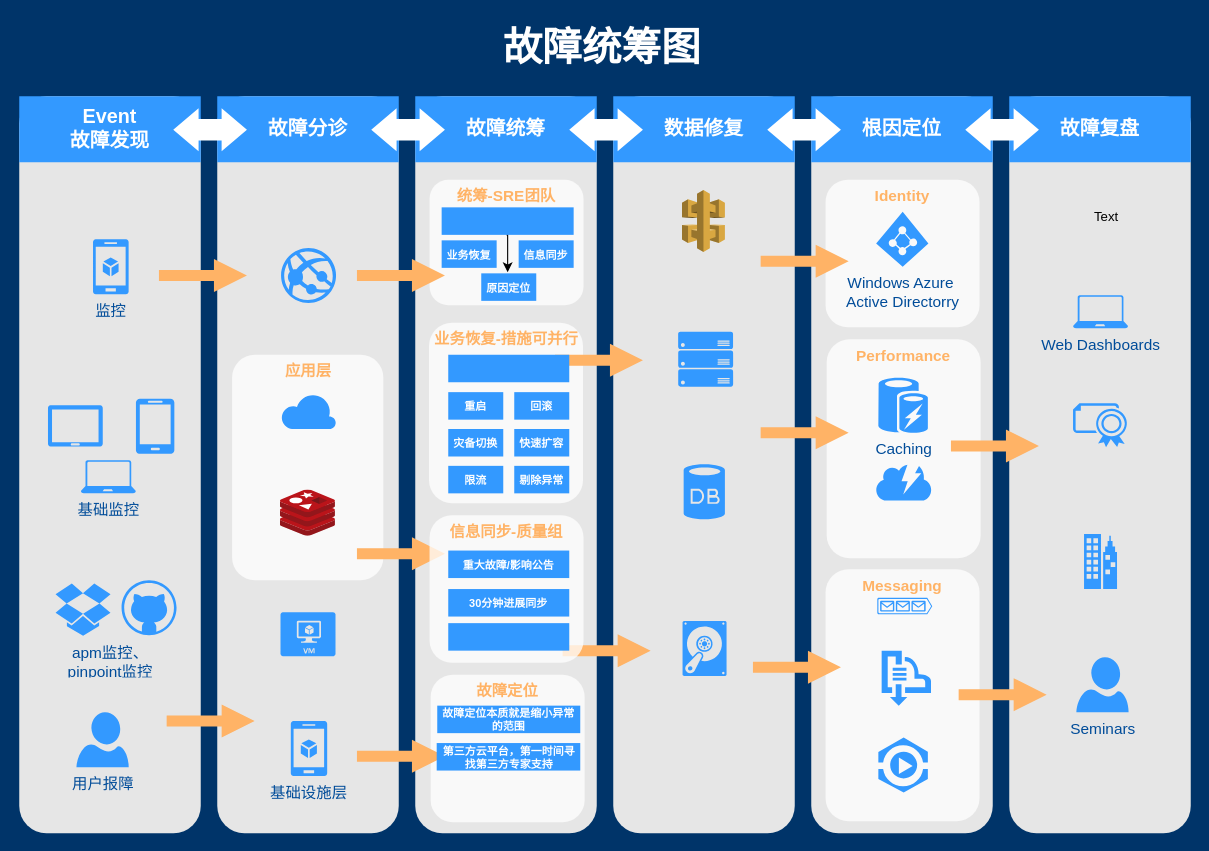
The diagram is 1209 pixels wide and 851 high, and some of its shapes have lost their labels. The centre of each missing label's shape, as x and y in pixels:
"Certificates" belongs at point (1100, 425).
"Content Delivery Network" belongs at point (903, 482).
"Enterprise Services" belongs at point (1100, 561).
"fastdfs图片" belongs at point (705, 358).
"Media Services" belongs at point (902, 764).
"Queues" belongs at point (904, 605).
"Service Bus" belongs at point (906, 677).
"中间件等" belongs at point (307, 513).
"应用模块" belongs at point (308, 410).
"开放平台消息推送" belongs at point (703, 220).
"异常队列 消息修补" belongs at point (704, 647).
"恢复公告" belongs at point (508, 636).
"恢复本质是隔离异常" belongs at point (508, 368).
"接入层" belongs at point (308, 275).
"数据库数据" belongs at point (703, 491).
"第一原则：业务恢复" belongs at point (507, 220).
"虚拟机/容器" belongs at point (307, 634).
